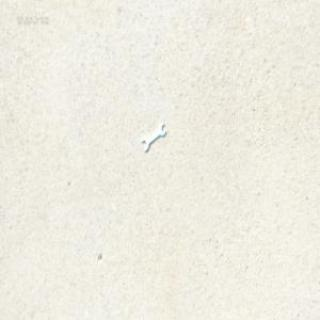Wrenchtrack_idkeyframe: (141, 122, 164, 152)
